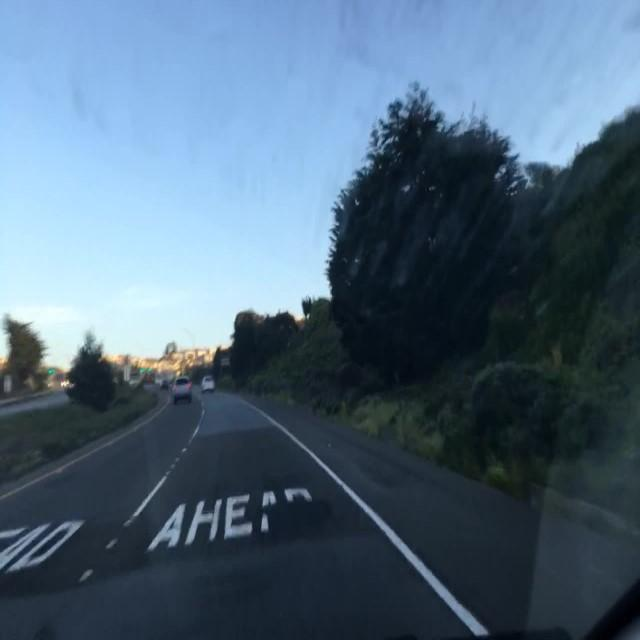normal: (174, 375, 195, 400)
